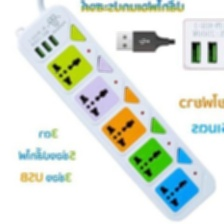three_eye_plug: (13, 0, 218, 224)
